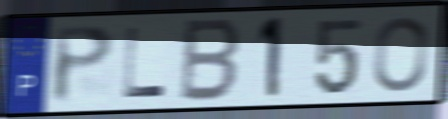1: (255, 14, 287, 103)
5: (312, 16, 364, 97)
B: (176, 17, 244, 105)
L: (121, 25, 169, 101)
O: (371, 15, 430, 95)
P: (51, 22, 117, 106)
